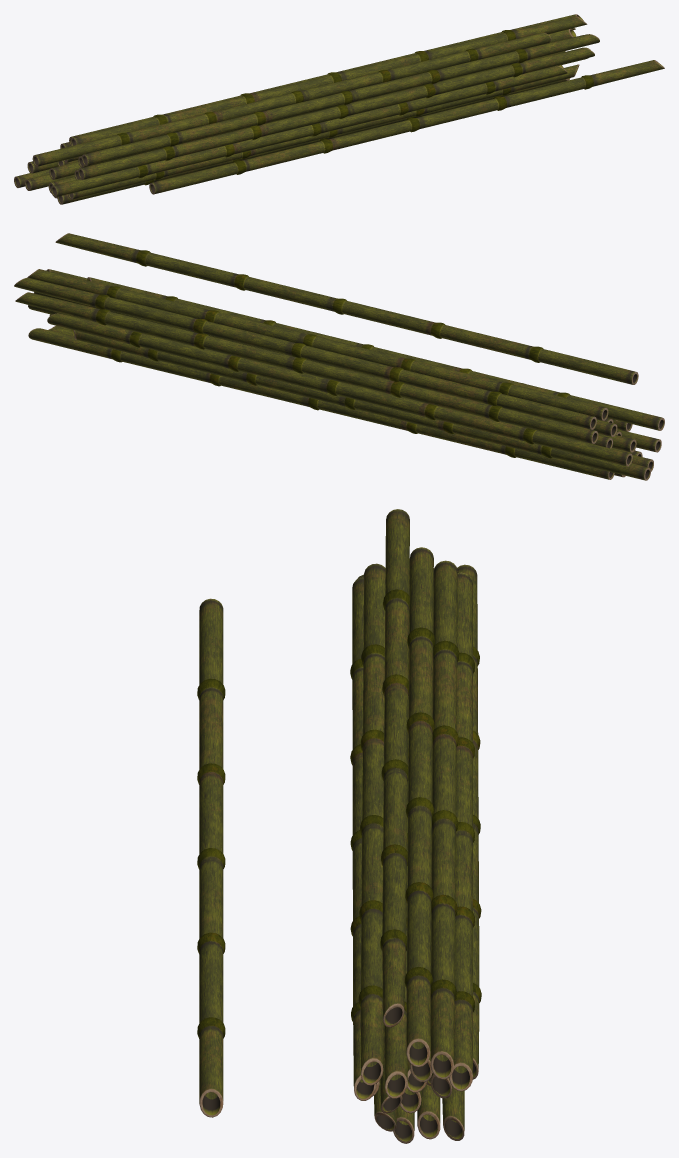
Rendered from bamboo_-_6_mb.glb.
3 renders of one model, top to bottom at view 1: azimuth 30°, elevation 25°; view 2: azimuth 150°, elevation 25°; view 3: azimuth 270°, elevation 25°, orthographic. The views are drawn at different scales.
Parts seen in each view (by area): view 1: 01__0, 02__0; view 2: 01__0, 02__0; view 3: 01__0, 02__0.
Boxes of the visible parts, x1,y1,x2,y2 form: 01__0: [14, 14, 599, 204]; 02__0: [149, 60, 664, 194]; 01__0: [14, 269, 664, 480]; 02__0: [55, 233, 638, 384]; 01__0: [350, 509, 481, 1143]; 02__0: [197, 598, 225, 1117].
Size of the model in its own units: 3.37 by 0.3323 by 0.708.
1 material, 1 textured.
